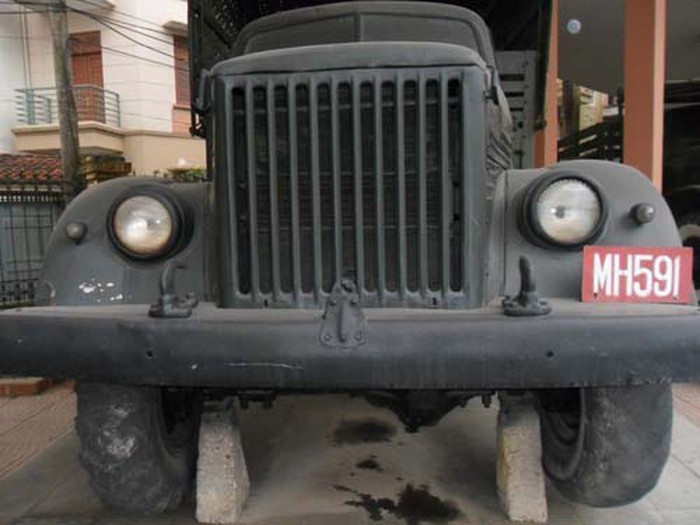plate: (580, 240, 696, 307)
